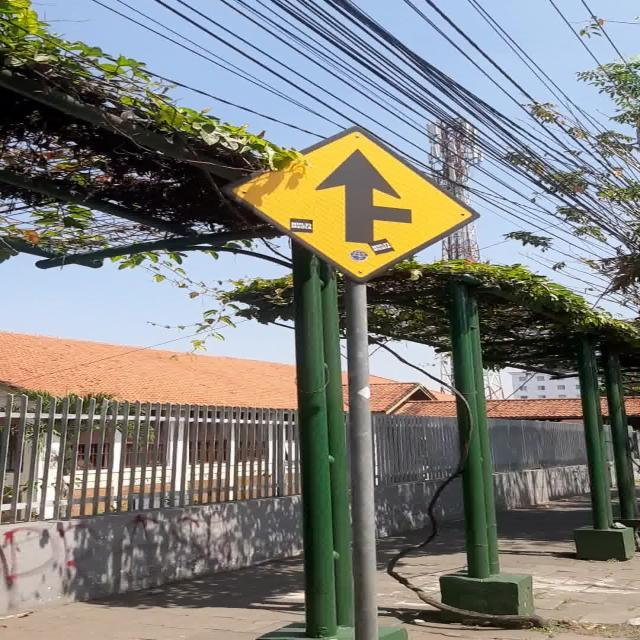Persimpangan 3 Prioritas Kanan: (219, 125, 482, 283)
